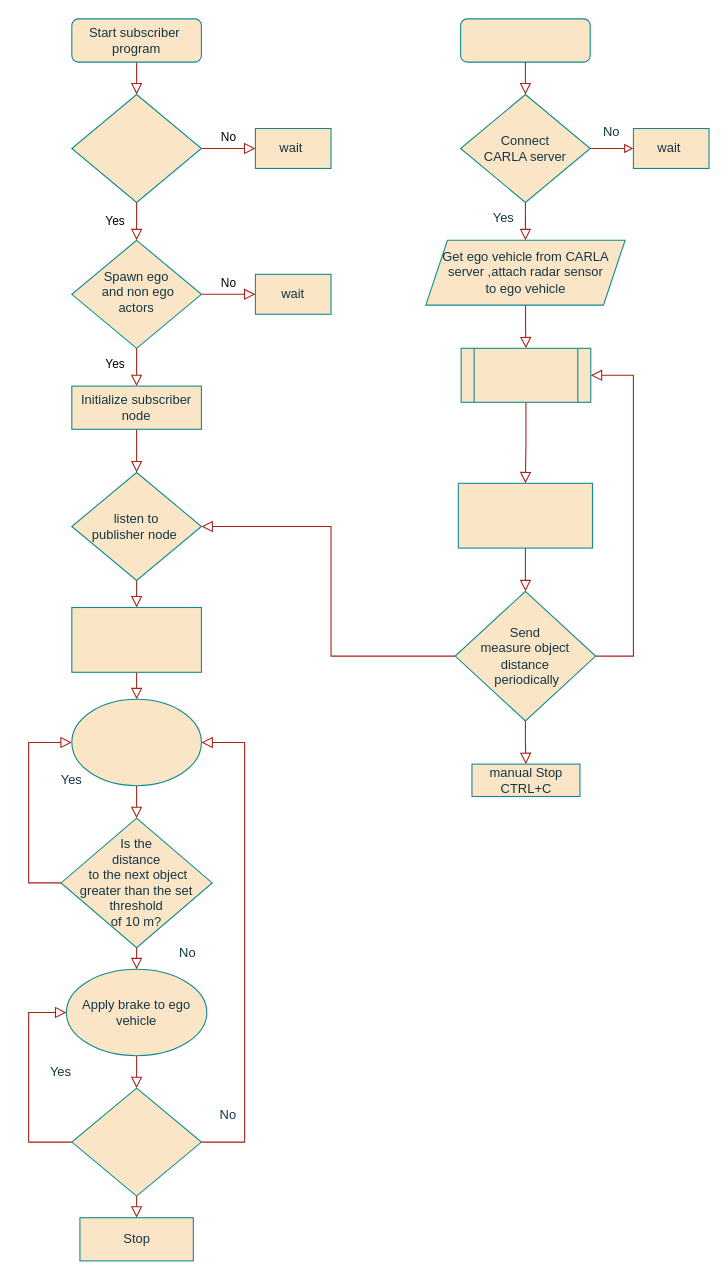
Image size: 728x1280. Some labels were removed from this diagram. The shapes that lost their labels are listed below. From the top down, each one's box as (x1, y1, x2, y2) in pixels, then its label:
(460, 18, 590, 62): Start publisher program
(71, 93, 201, 202): Connect to CARLA server
(460, 347, 591, 402): calculate next object distance with radar senor
(457, 482, 592, 548): Initialize the publisher node with an update time period of 0.5 seconds
(71, 606, 201, 672): Read the distance to the next object
(71, 698, 201, 786): apply control to ego vehicle (throttle = 0.5)
(71, 1087, 201, 1196): is vehicle reaches at end of the road
